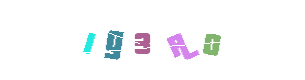1: (49, 0, 129, 80)
3: (112, 0, 192, 80)
G: (74, 0, 154, 80)
O: (139, 0, 219, 80)
R: (136, 0, 216, 80)
